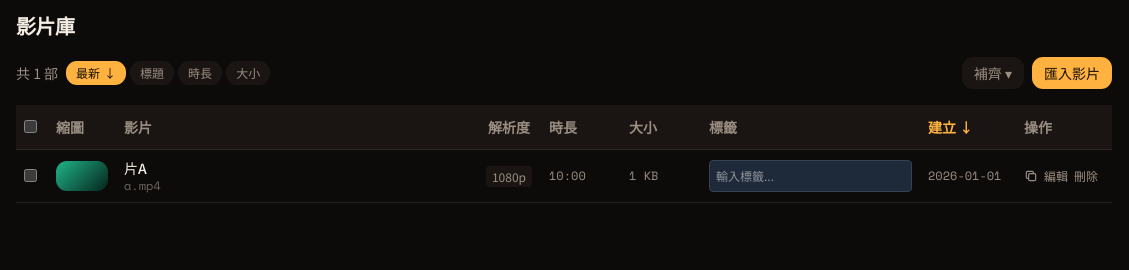
Scenario: VideoManagePage (library) › renders the video row and shows batch bar after selecting a row
The image size is (1129, 270).
Expected: the link "片A" is shown, [124,158,147,178]
Step 1. Click the checkbox named "選取 片A" → (30, 176), box [24,169,37,182]
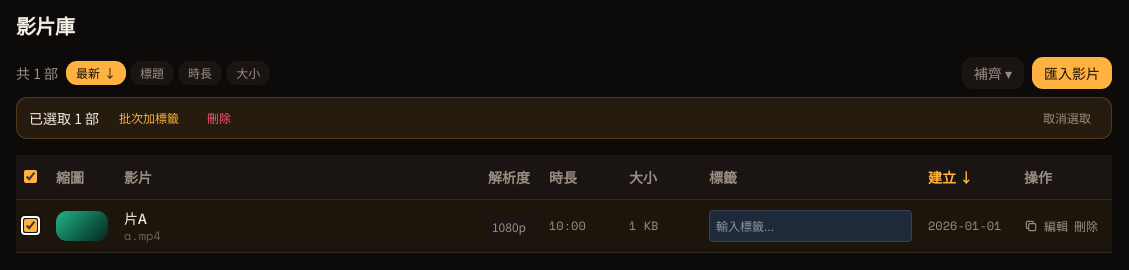
Expected: the text "已選取 1 部" is shown, [29,108,99,128]
